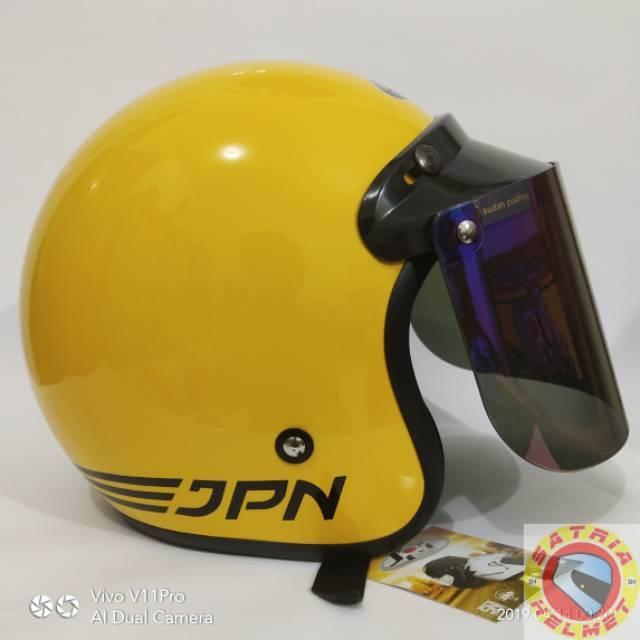Helm: (24, 58, 633, 558)
